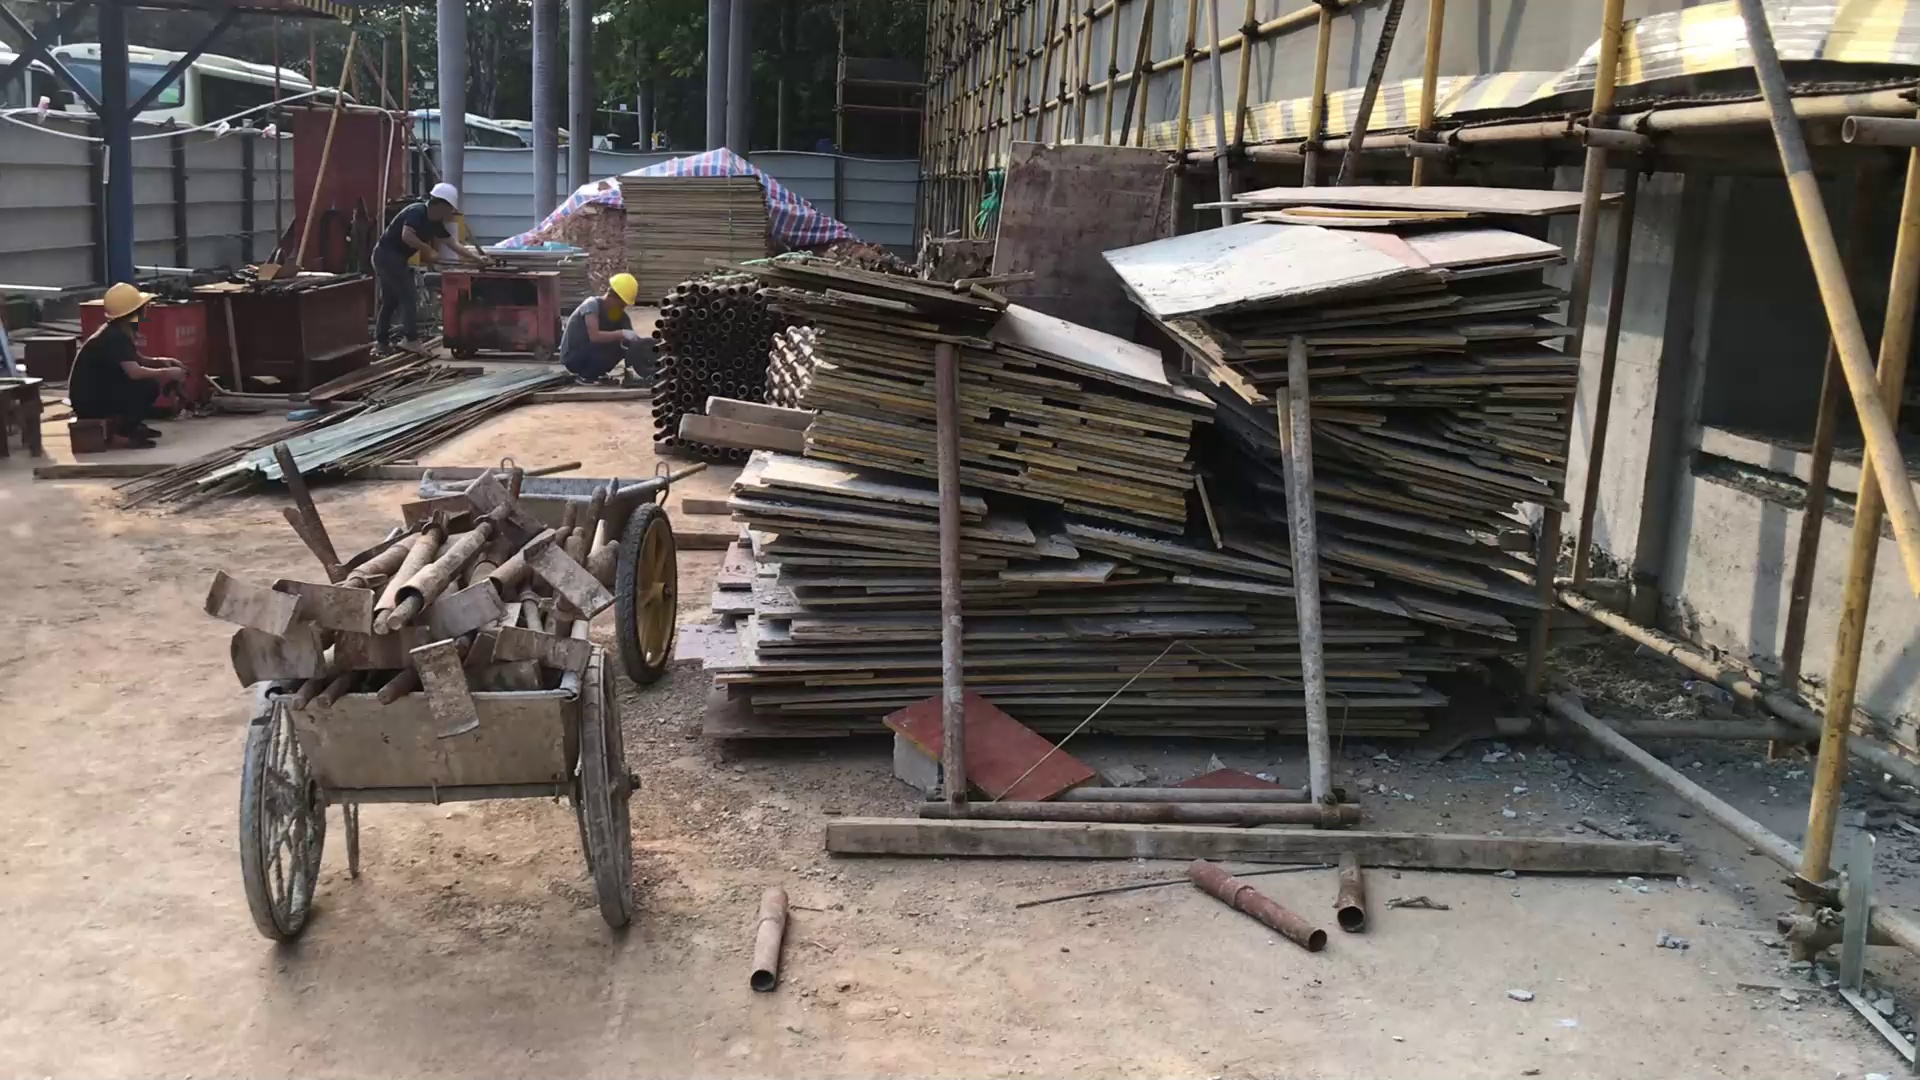board: (722, 190, 1580, 736), (618, 167, 766, 306)
handcart: (229, 608, 645, 946), (410, 458, 710, 688)
helmet: (101, 280, 152, 322), (606, 271, 640, 307), (427, 179, 460, 215)
person: (64, 274, 189, 452), (367, 179, 486, 354), (558, 269, 641, 390)
rebar: (113, 369, 563, 515)
scaffold: (650, 271, 807, 461)
